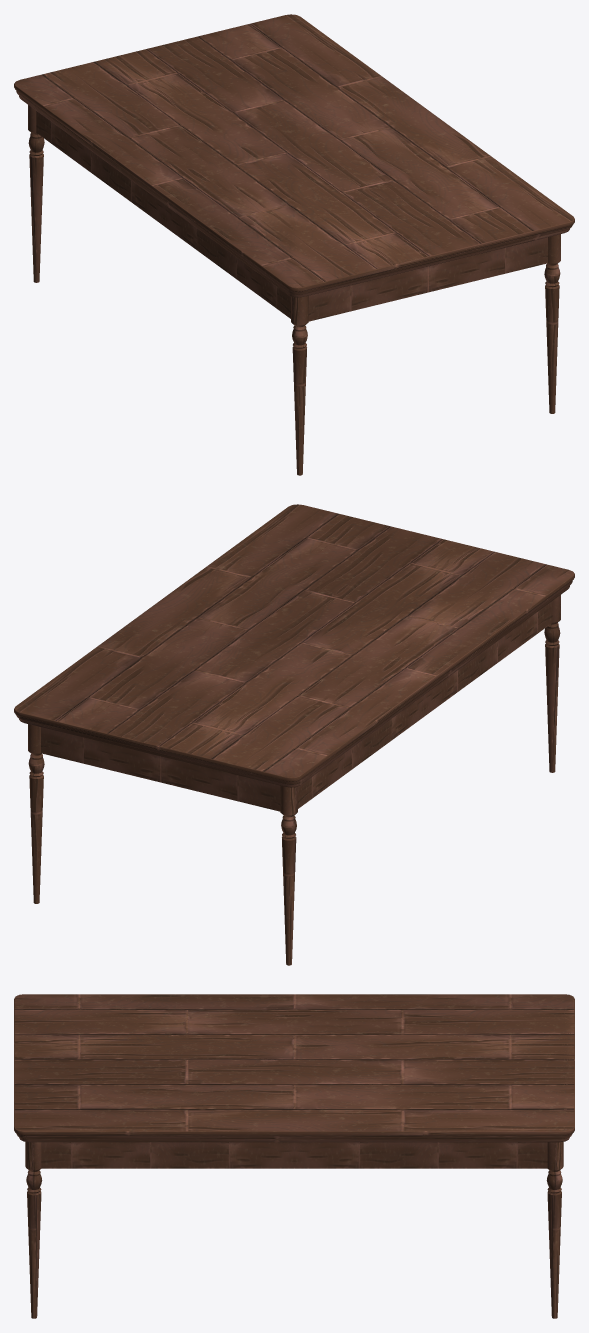
Rendered from Table 1.fbx.
The picture shows the model from 3 angles, top to bottom: view 1: azimuth 30°, elevation 25°; view 2: azimuth 150°, elevation 25°; view 3: azimuth 270°, elevation 25°; orthographic projection.
Parts seen in each view (by area): view 1: Cube.087, Cube.063, Cube.100; view 2: Cube.087, Cube.063, Cube.100; view 3: Cube.087, Cube.063, Cube.100.
Part boxes in pixels (left/top/right/bottom): Cube.087: left=14, top=14, right=574, bottom=297; Cube.063: left=36, top=111, right=547, bottom=321; Cube.100: left=28, top=105, right=560, bottom=475; Cube.087: left=14, top=504, right=574, bottom=787; Cube.063: left=41, top=601, right=552, bottom=811; Cube.100: left=28, top=595, right=560, bottom=965; Cube.087: left=14, top=994, right=574, bottom=1142; Cube.063: left=41, top=1142, right=547, bottom=1168; Cube.100: left=25, top=1141, right=563, bottom=1318.
Bounding box in the file's own units: 452 × 297 × 780.
